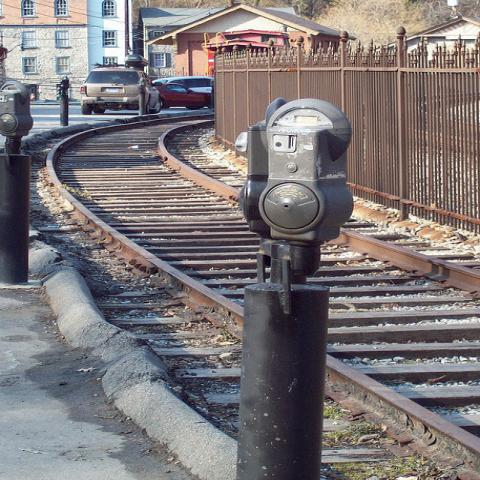car: (80, 67, 162, 115), (156, 81, 208, 111), (153, 76, 213, 102)
